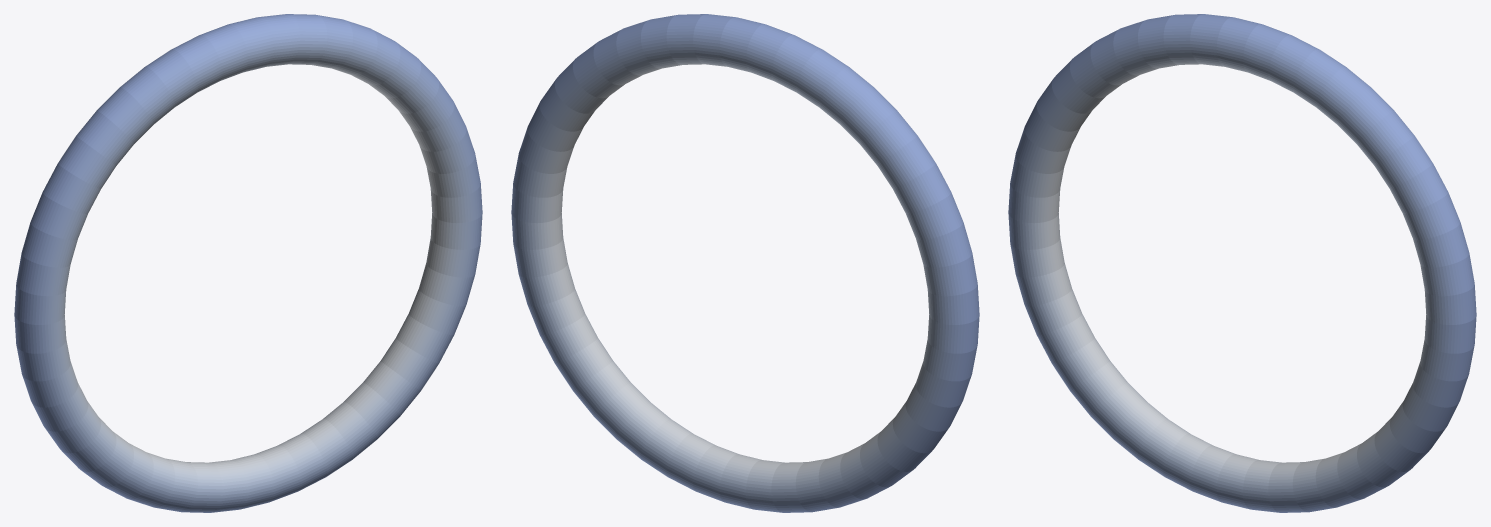
3 renders of one model, left to right at view 1: azimuth 30°, elevation 25°; view 2: azimuth 150°, elevation 25°; view 3: azimuth 330°, elevation 25°, orthographic.
Visible parts, largest first — view 1: world; view 2: world; view 3: world.
Boxes of the visible parts, bbox=[...] form: world: bbox=[14, 14, 482, 512]; world: bbox=[511, 14, 979, 512]; world: bbox=[1008, 14, 1476, 512].
Size of the model in its own units: 32.4 by 32.34 by 3.06.
